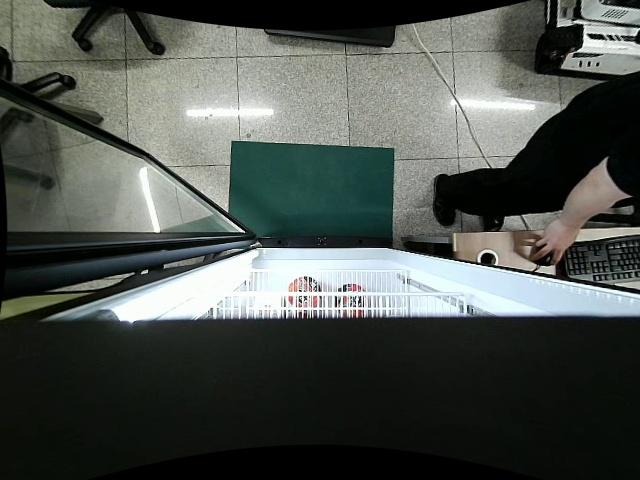00_hand: (533, 219, 579, 269)
